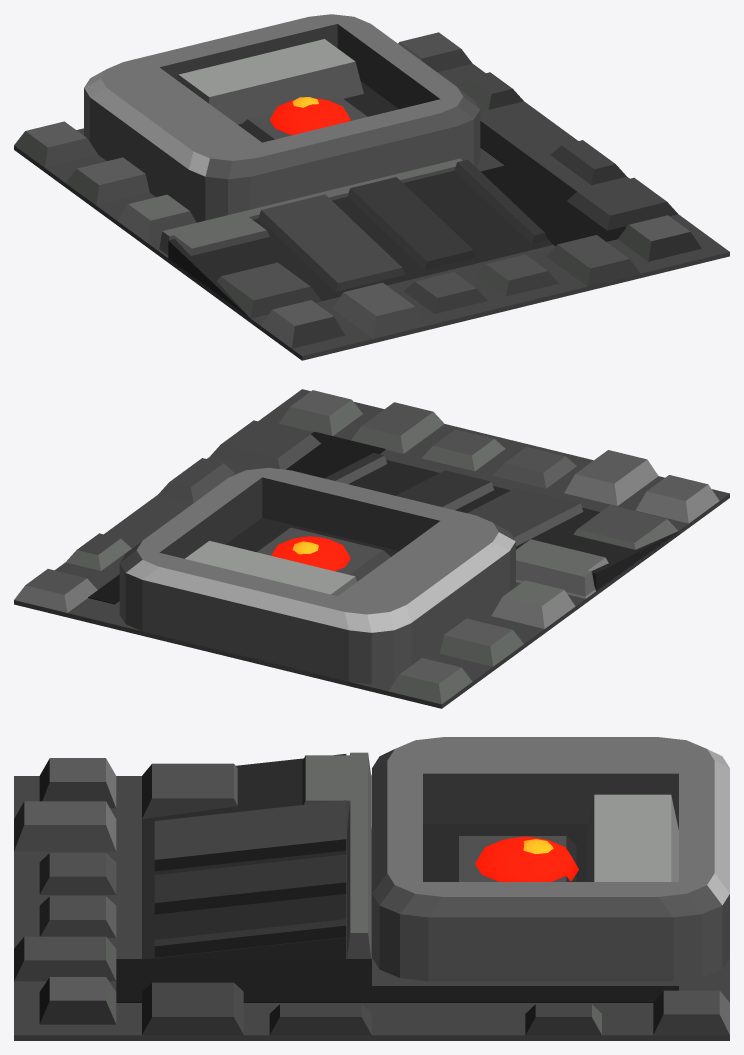
File: newshp-237.glb
3 renders of one model, top to bottom at view 1: azimuth 30°, elevation 25°; view 2: azimuth 150°, elevation 25°; view 3: azimuth 270°, elevation 25°, orthographic. The views are drawn at different scales.
Parts seen in each view (by area): view 1: newshp-237; view 2: newshp-237; view 3: newshp-237.
Boxes of the visible parts, x1,y1,x2,y2 form: newshp-237: [14, 14, 729, 360]; newshp-237: [14, 389, 729, 708]; newshp-237: [14, 737, 729, 1040].
Size of the model in its own units: 2 by 0.3 by 2.33.
